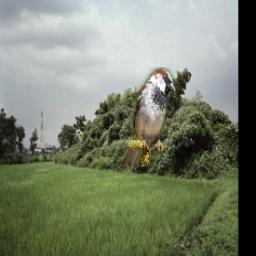Sparrow: (122, 67, 176, 167)
